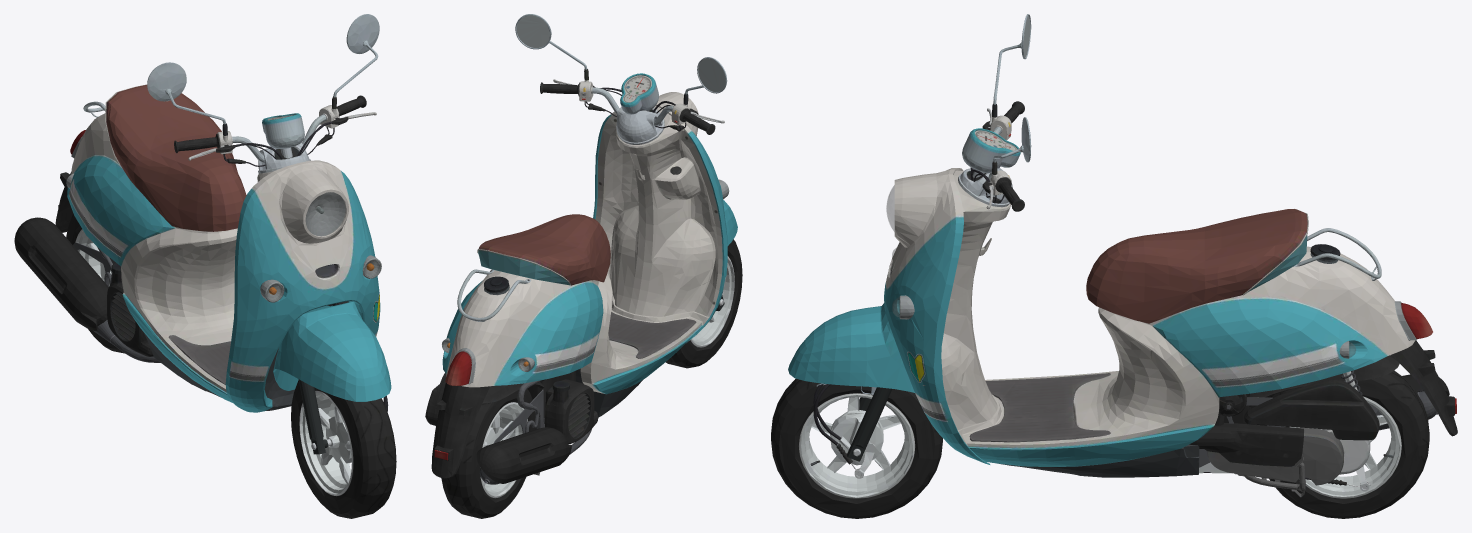
Rendered from vino.glb.
3 views of the same model, side by side, from view 1: azimuth 30°, elevation 25°; view 2: azimuth 150°, elevation 25°; view 3: azimuth 270°, elevation 25° (orthographic). The views are drawn at different scales.
Size of the model in its own units: 0.6794 by 1.16 by 1.61.
6 materials, 6 textured.
